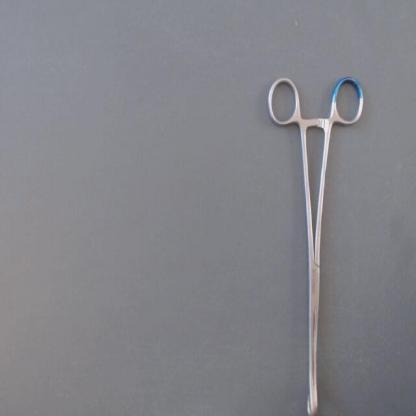Sponge Forceps: (260, 68, 370, 415)
